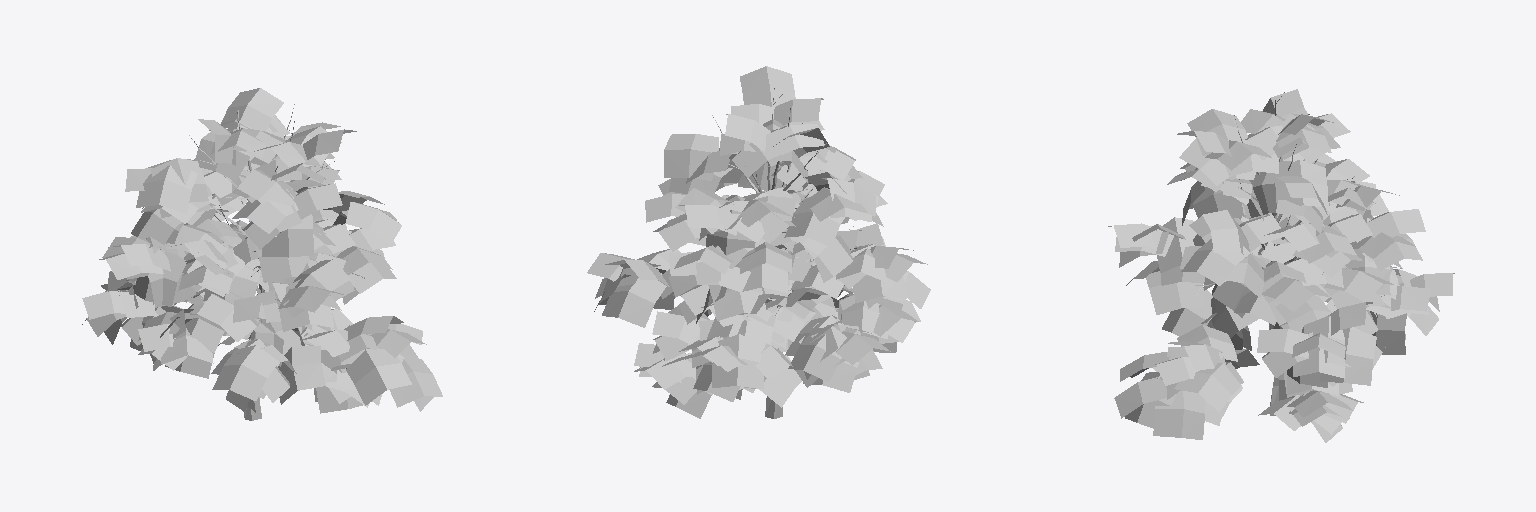
The model's file is tree1a_lod0.obj.
The picture shows the model from 3 angles: view 1: azimuth 30°, elevation 25°; view 2: azimuth 150°, elevation 25°; view 3: azimuth 270°, elevation 25°; orthographic projection.
Parts seen in each view (by area): view 1: leaves 0.0 0.[number redacted] 0.0 0 0 0 0.[number redacted] 0.[number redacted], bark 0.[number redacted] -0.[number redacted] -0.[number redacted]; view 2: leaves 0.0 0.[number redacted] 0.0 0 0 0 0.[number redacted] 0.[number redacted], bark 0.[number redacted] -0.[number redacted] -0.[number redacted]; view 3: leaves 0.0 0.[number redacted] 0.0 0 0 0 0.[number redacted] 0.[number redacted], bark 0.[number redacted] -0.[number redacted] -0.[number redacted].
Part boxes in pixels (x1,y1,x2,y2): leaves 0.0 0.[number redacted] 0.0 0 0 0 0.[number redacted] 0.[number redacted]: (82, 88, 442, 413); bark 0.[number redacted] -0.[number redacted] -0.[number redacted]: (189, 104, 364, 420); leaves 0.0 0.[number redacted] 0.0 0 0 0 0.[number redacted] 0.[number redacted]: (587, 66, 930, 418); bark 0.[number redacted] -0.[number redacted] -0.[number redacted]: (712, 88, 853, 418); leaves 0.0 0.[number redacted] 0.0 0 0 0 0.[number redacted] 0.[number redacted]: (1108, 89, 1454, 442); bark 0.[number redacted] -0.[number redacted] -0.[number redacted]: (1192, 92, 1354, 415).
Size of the model in its own units: 0.9827 by 1 by 1.